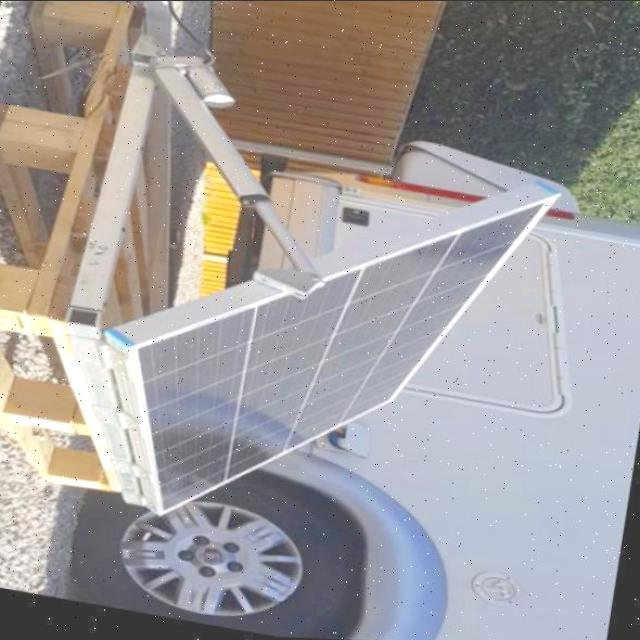Normal Solar Panel: (105, 132, 552, 574)
